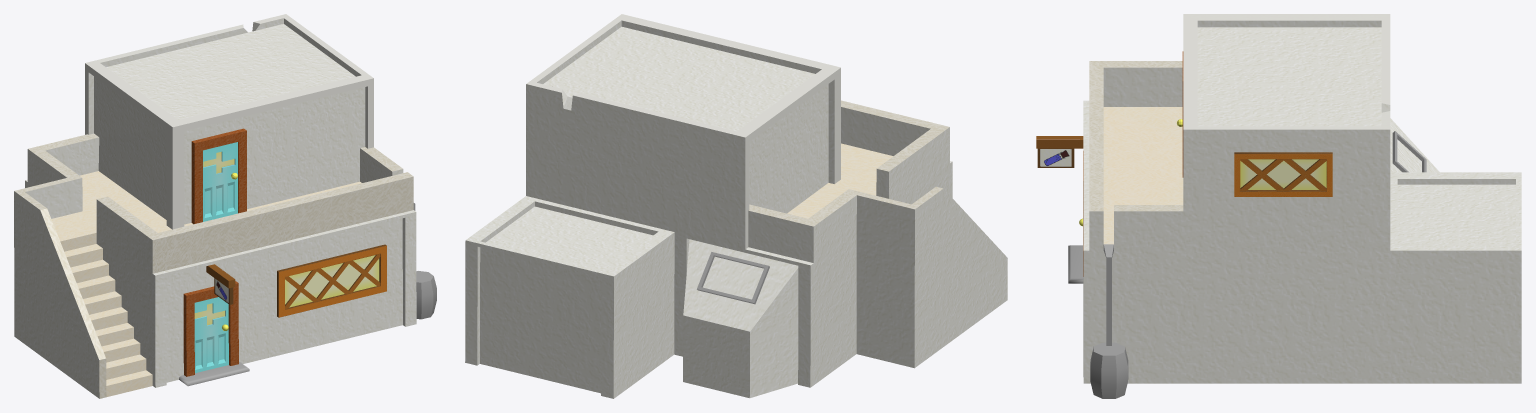
File: Apothecary.fbx
3 views of the same model, side by side, from view 1: azimuth 30°, elevation 25°; view 2: azimuth 150°, elevation 25°; view 3: azimuth 270°, elevation 25° (orthographic). The views are drawn at different scales.
Visible parts, largest first — view 1: polySurface17, polySurface20, polySurface8, polySurface7, pCylinder1, pCube21, pCube18; view 2: polySurface17, pCube25; view 3: polySurface17, polySurface20, pCylinder1, pCube18, pCube26, pCube21, pCube25.
Boxes of the visible parts, x1=… form: polySurface17: x1=14, y1=14, x2=416, y2=398; polySurface20: x1=277, y1=244, x2=386, y2=317; polySurface8: x1=203, y1=142, x2=237, y2=221; polySurface7: x1=194, y1=297, x2=228, y2=372; pCylinder1: x1=416, y1=271, x2=436, y2=319; pCube21: x1=179, y1=362, x2=249, y2=386; pCube18: x1=206, y1=264, x2=235, y2=304; polySurface17: x1=465, y1=14, x2=1007, y2=398; pCube25: x1=697, y1=252, x2=769, y2=304; polySurface17: x1=1083, y1=14, x2=1521, y2=383; polySurface20: x1=1234, y1=152, x2=1332, y2=196; pCylinder1: x1=1090, y1=342, x2=1128, y2=398; pCube18: x1=1036, y1=136, x2=1083, y2=167; pCube26: x1=1103, y1=244, x2=1113, y2=345; pCube21: x1=1068, y1=245, x2=1083, y2=283; pCube25: x1=1392, y1=131, x2=1426, y2=172.
Bounding box in the file's own units: 8.32 × 5 × 8.65.
